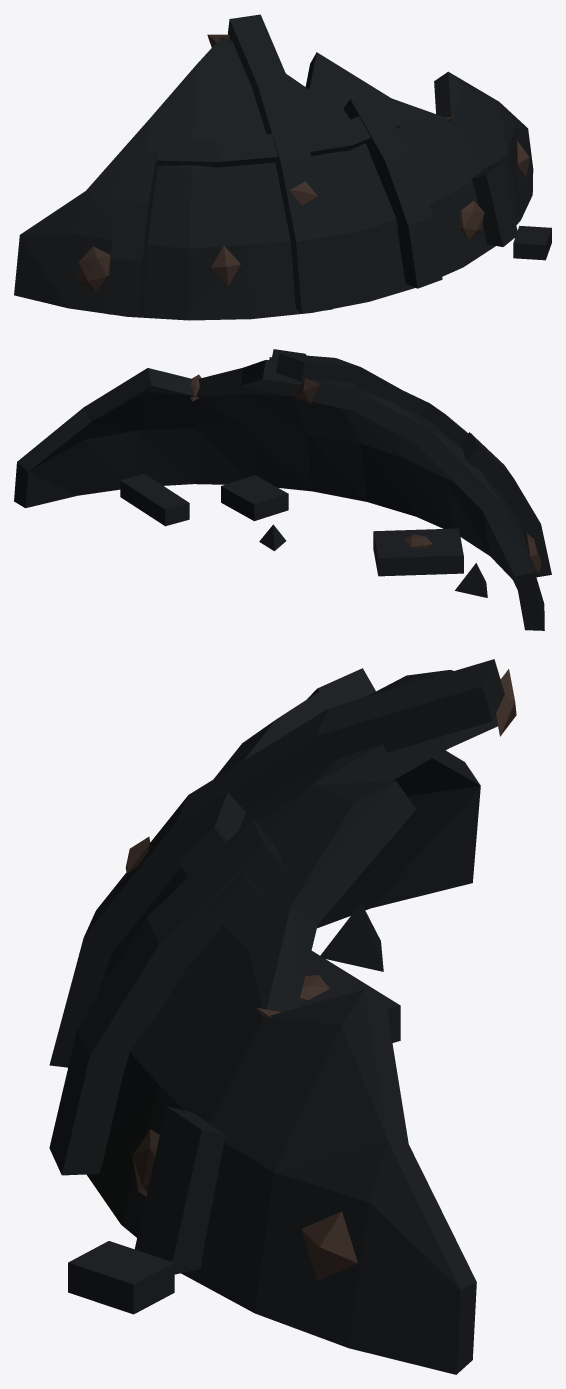
File: env-ruin-dome-shard.glb
The picture shows the model from 3 angles, top to bottom: view 1: azimuth 30°, elevation 25°; view 2: azimuth 150°, elevation 25°; view 3: azimuth 270°, elevation 25°; orthographic projection. The views are drawn at different scales.
Parts seen in each view (by area): view 1: shell, rib_b, rib_d, rib_a, band, rib_c, chunk_c, coral_01, coral_03, coral_02; view 2: shell, chunk_a, rib_a, rib_b, rib_fallen, chunk_b, band, shard_a, shard_b, coral_05, coral_01; view 3: shell, rib_b, rib_d, rib_c, band, chunk_c, coral_04, shard_a, chunk_a, coral_03.
Part boxes in pixels (x1,y1,x2,y2): shell: (14,36,533,320); rib_b: (228,14,332,313); rib_d: (343,90,442,288); rib_a: (108,148,157,317); band: (156,104,400,167); rib_c: (471,162,517,246); chunk_c: (513,226,551,260); coral_01: (78,246,110,291); coral_03: (458,200,484,239); coral_02: (211,245,240,286); shell: (14,360,544,630); chunk_a: (373,528,463,576); rib_a: (459,432,551,577); rib_b: (276,353,399,398); rib_fallen: (120,473,189,526); chunk_b: (221,475,288,521); band: (269,357,468,444); shard_a: (455,563,487,597); shard_b: (259,524,286,551); coral_05: (295,378,320,403); coral_01: (524,532,541,573); shell: (86,670,511,1374); rib_b: (49,659,504,1067); rib_d: (49,818,286,1175); rib_c: (135,1106,227,1274); band: (177,678,353,930); chunk_c: (68,1241,174,1314); coral_04: (301,1211,357,1280); shard_a: (320,903,383,971); chunk_a: (297,950,400,1042); coral_03: (132,1129,159,1196).
Size of the model in its own units: 40 by 15.78 by 15.58.
